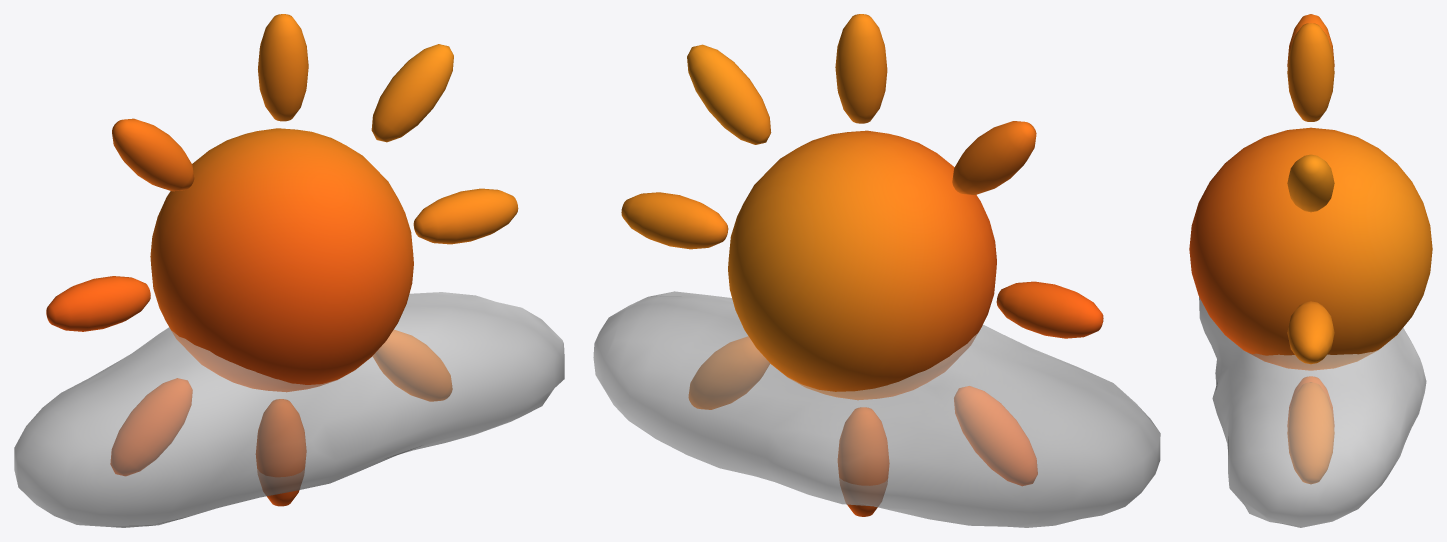
Rendered from 45_Kabut.fbx.
3 renders of one model, left to right at view 1: azimuth 30°, elevation 25°; view 2: azimuth 150°, elevation 25°; view 3: azimuth 270°, elevation 25°, orthographic. The views are drawn at different scales.
Parts seen in each view (by area): view 1: Kabut; view 2: Kabut; view 3: Kabut.
Boxes of the visible parts, x1=… form: Kabut: x1=14, y1=14, x2=564, y2=527; Kabut: x1=593, y1=14, x2=1160, y2=527; Kabut: x1=1189, y1=14, x2=1432, y2=527.
Bounding box in the file's own units: 468 × 411 × 200.
